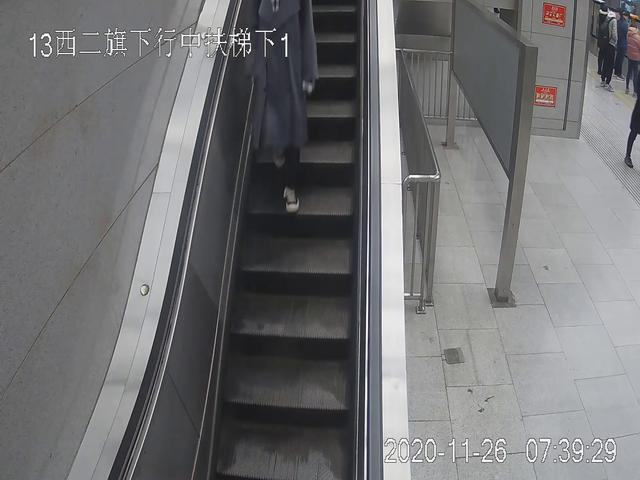person: (240, 1, 317, 215), (600, 8, 620, 91)
